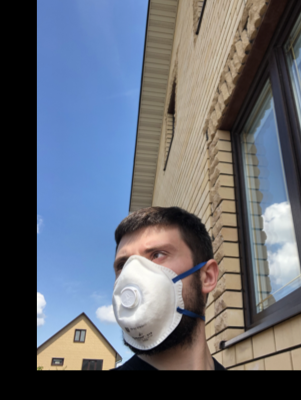with_mask: (111, 241, 188, 355)
